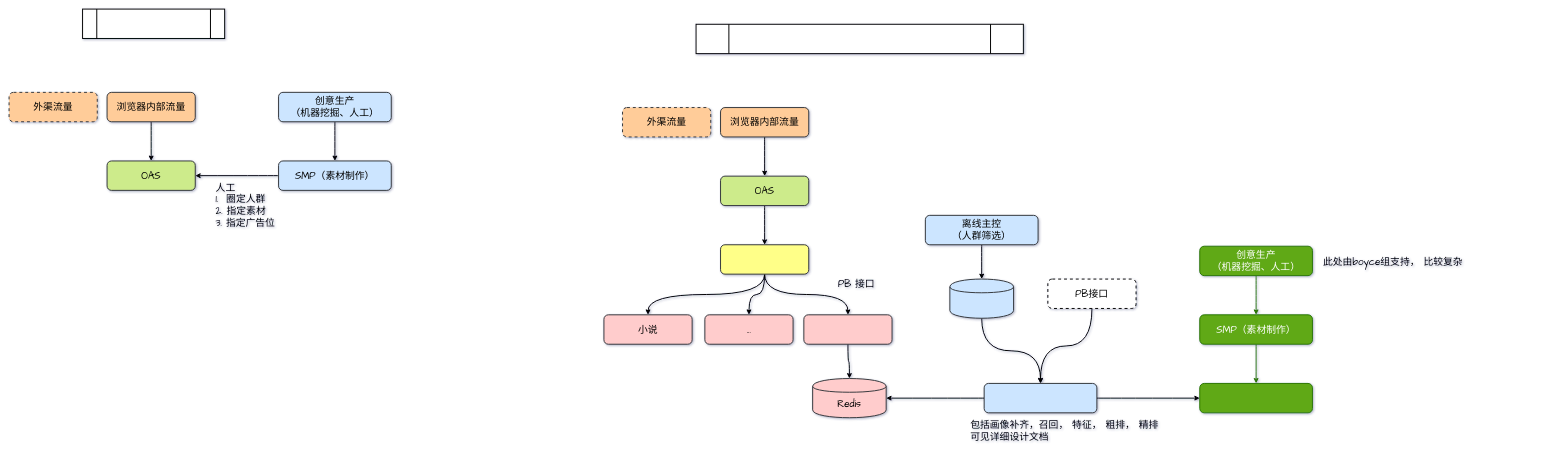
Some shapes in this 1549 by 453 pixel diagram are drawn without their labels. Here are the shapes that lost their labels. From the top down, the centre of each, then its label:
(x=153, y=23): 人工投放流程
(x=859, y=39): 个性化投放流程
(x=764, y=259): DSP
(x=981, y=298): Kafka
(x=847, y=329): 搜索
(x=1040, y=398): 在线主控
(x=1256, y=398): 召回池
